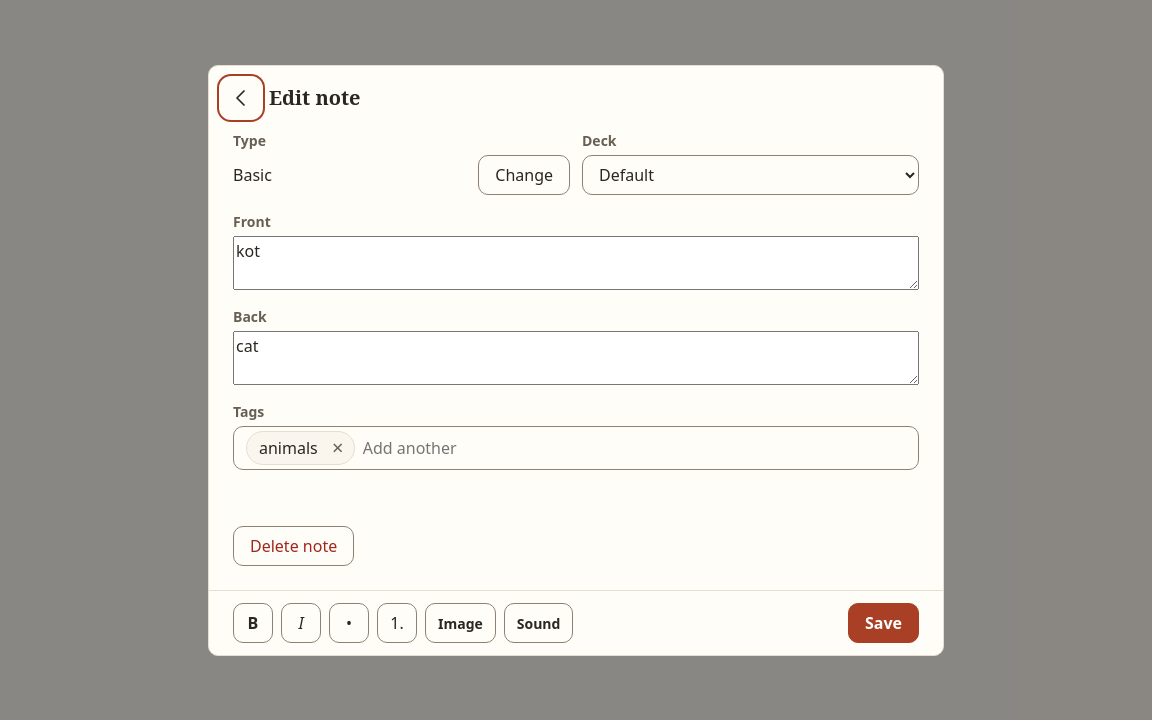
Test: saving › a refused save stays open and says why
The image size is (1152, 720).
Clear the text box labelled "Front" at (576, 262), box x1=233 y1=236 x2=919 y2=290
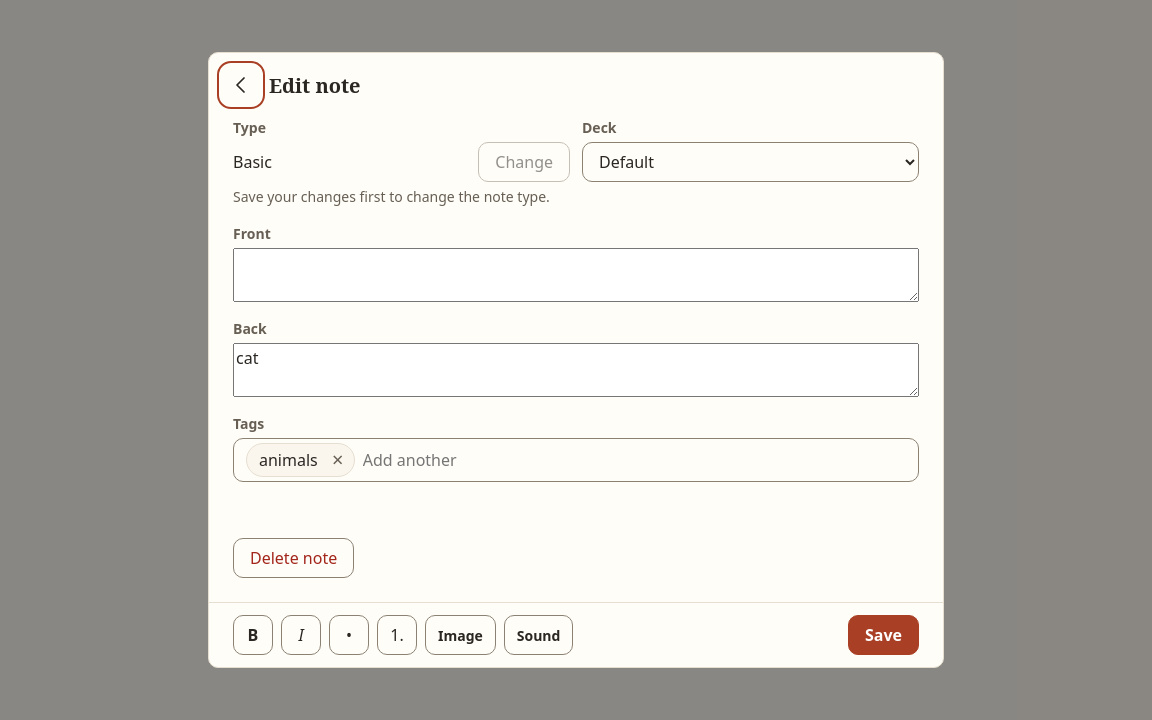
Click the button "Save".
click(884, 635)  # box x1=848 y1=615 x2=919 y2=655
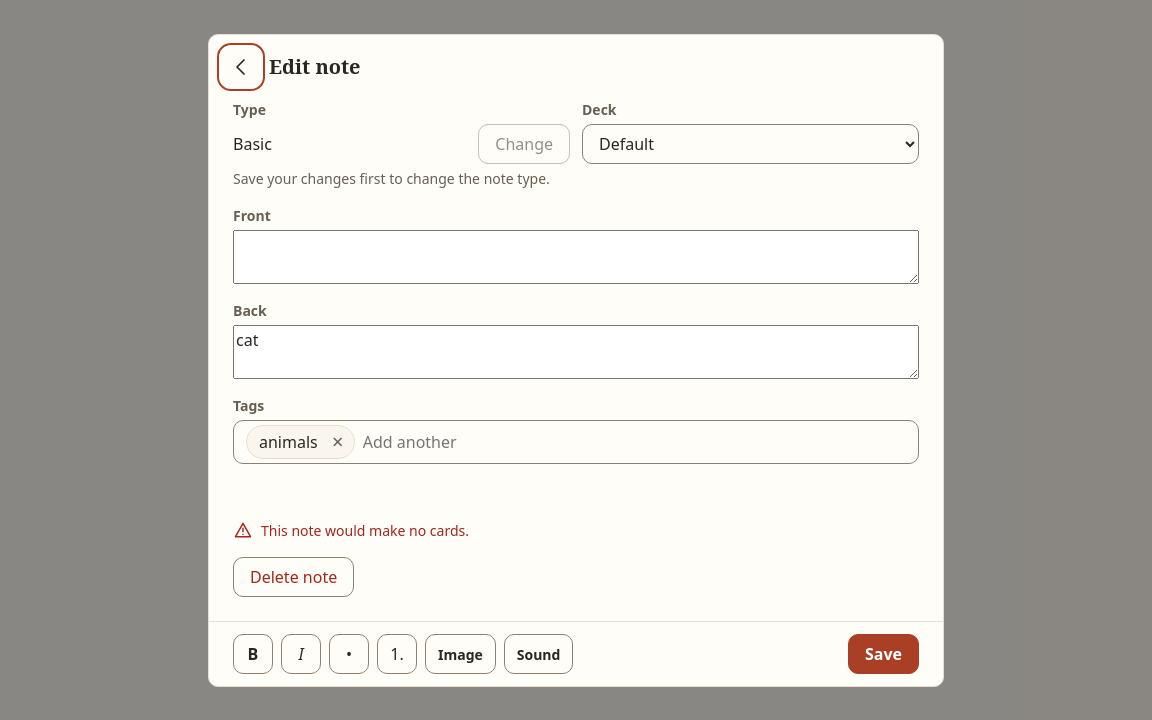
Result: the message "This note would make no cards." is shown at x1=233 y1=520 x2=469 y2=540
